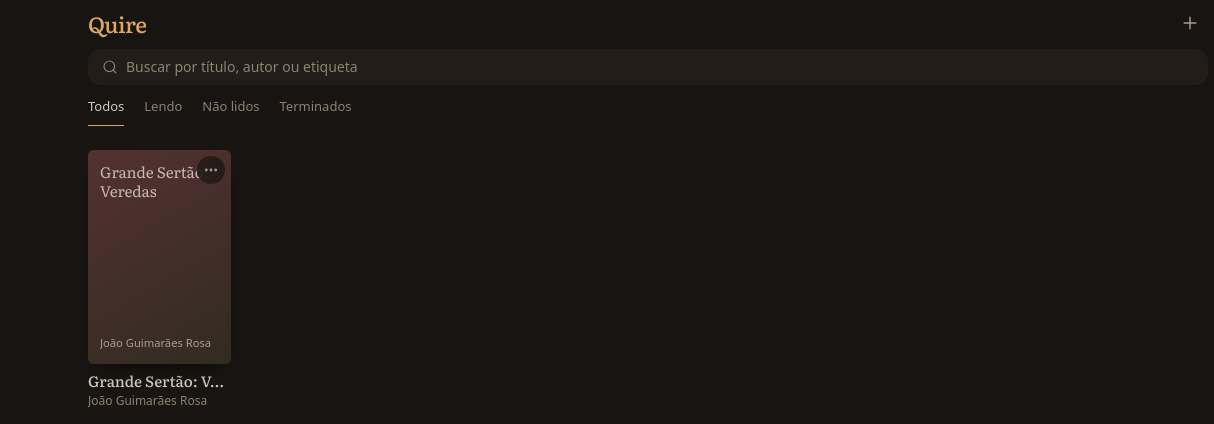
LibraryScreen — menu do livro › abrir o menu não abre o livro por baixo
What coordinates should you click on to do the following:
click the button named "opções de grande sertão"
I would click on:
 (211, 170)
Its box is [197,156,225,184].
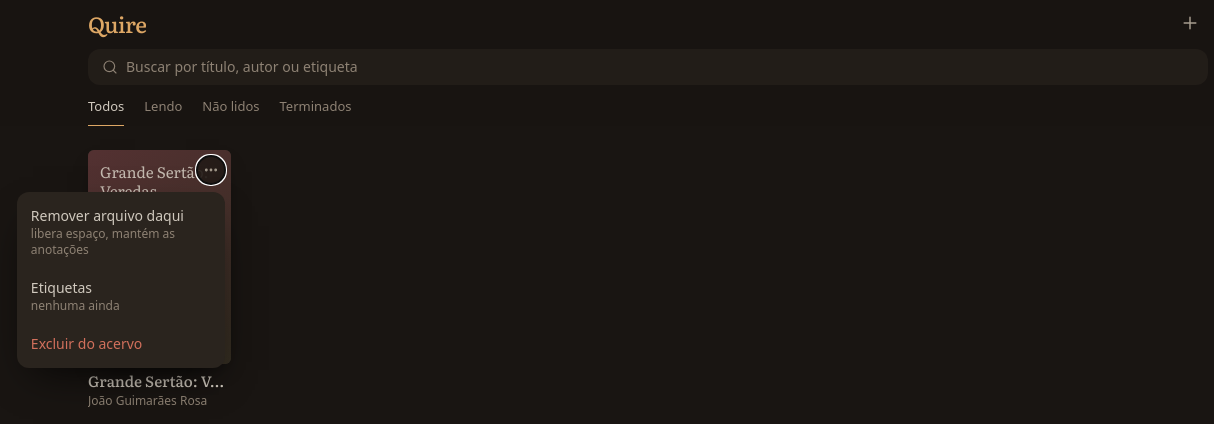
Expected: the button "Excluir do acervo" is shown, [17,324,225,364]
